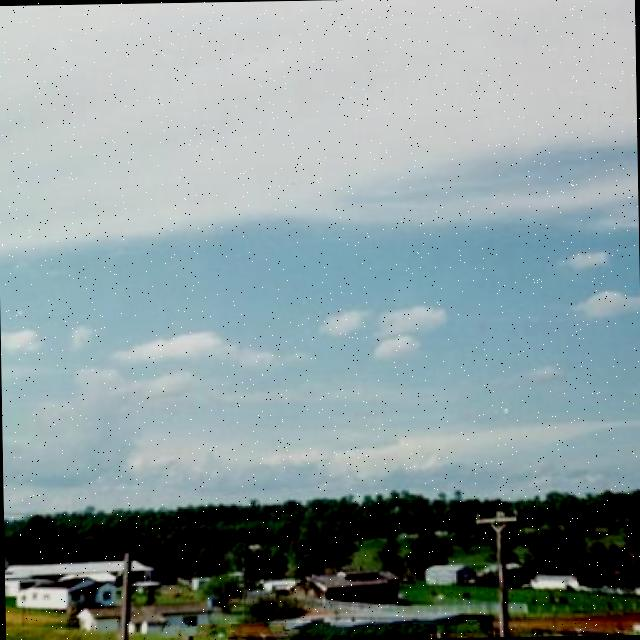Cs: (1, 43, 640, 447)
